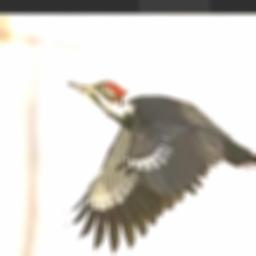Woodpecker: (63, 80, 256, 254)
